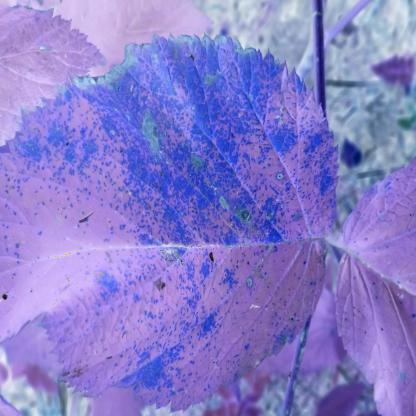Raspberry leaf: (0, 32, 346, 399)
